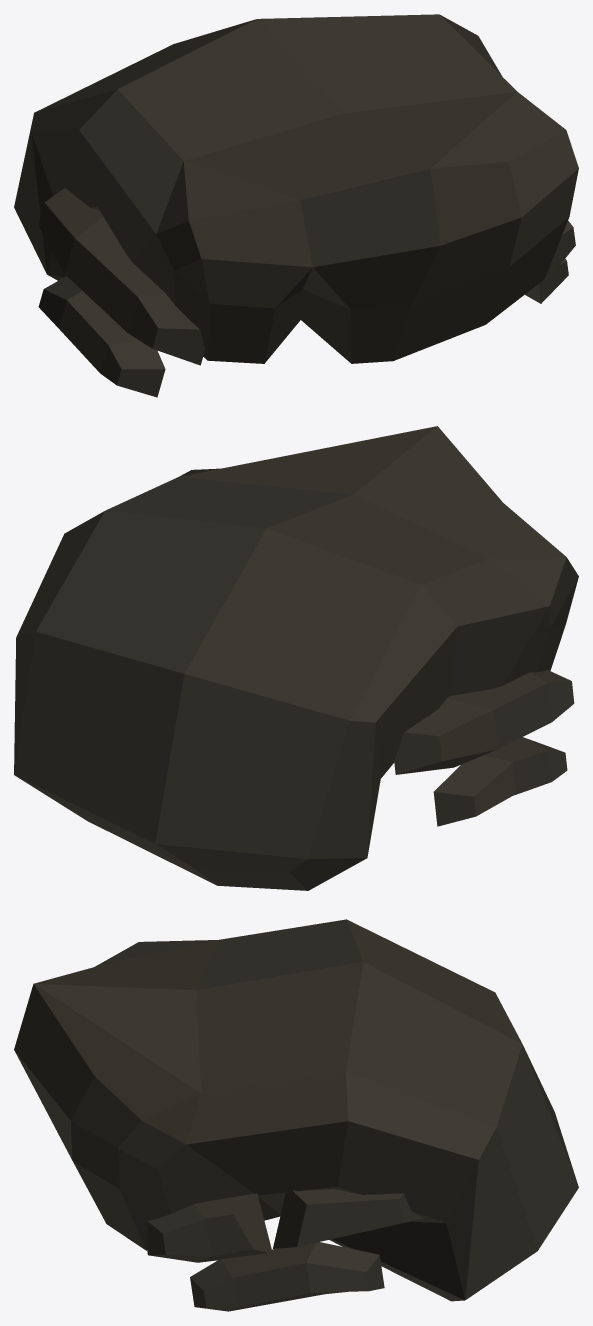
The model's file is SM_Chr_Attach_Brute_Hair_02.fbx.
3 renders of one model, top to bottom at view 1: azimuth 30°, elevation 25°; view 2: azimuth 150°, elevation 25°; view 3: azimuth 270°, elevation 25°, orthographic. The views are drawn at different scales.
Visible parts, largest first — view 1: SM_Chr_Attach_Brute_Hair_02; view 2: SM_Chr_Attach_Brute_Hair_02; view 3: SM_Chr_Attach_Brute_Hair_02.
Part boxes in pixels (x1=…): SM_Chr_Attach_Brute_Hair_02: x1=14, y1=14, x2=578, y2=397; SM_Chr_Attach_Brute_Hair_02: x1=14, y1=426, x2=578, y2=890; SM_Chr_Attach_Brute_Hair_02: x1=14, y1=919, x2=578, y2=1311.
Size of the model in its own units: 25.88 by 17.18 by 29.04.
